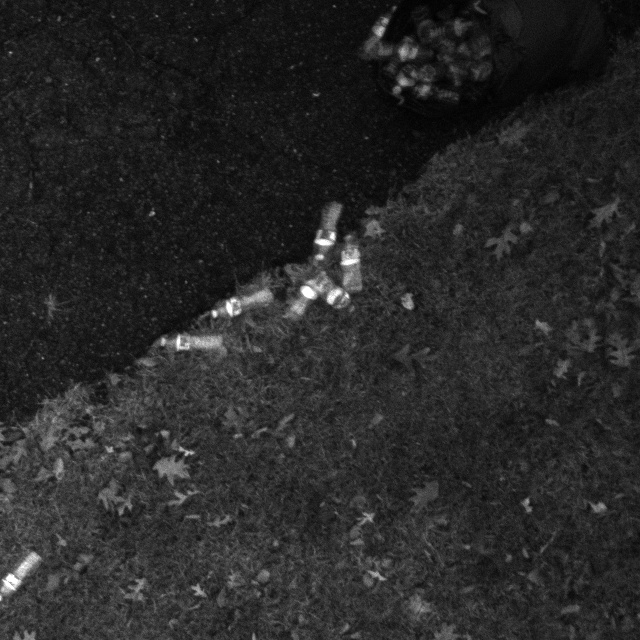bottle: (153, 312, 227, 364), (326, 228, 371, 301), (277, 264, 327, 328), (300, 189, 345, 258), (405, 44, 448, 116), (382, 44, 429, 108), (358, 0, 407, 61), (210, 280, 276, 325)
